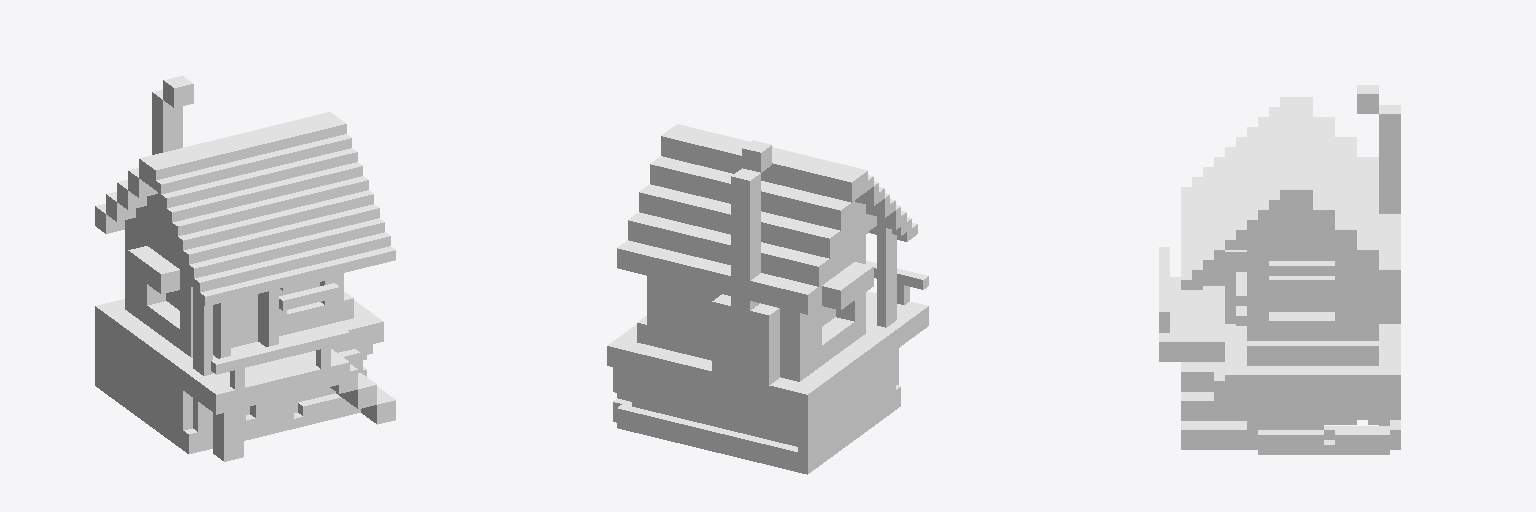
File: house_2.obj
The picture shows the model from 3 angles: view 1: azimuth 30°, elevation 25°; view 2: azimuth 150°, elevation 25°; view 3: azimuth 270°, elevation 25°; orthographic projection.
Visible parts, largest first — view 1: house_2; view 2: house_2; view 3: house_2.
Part boxes in pixels (x1,y1,x2,y2): house_2: (95,76,395,461); house_2: (607,124,928,474); house_2: (1159,85,1400,454).
Size of the model in its own units: 21 by 30 by 22.